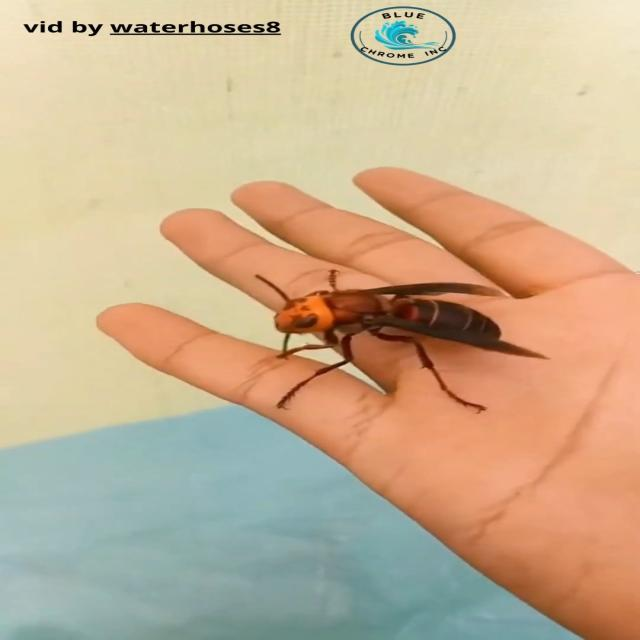Hornets: (251, 269, 551, 415)
